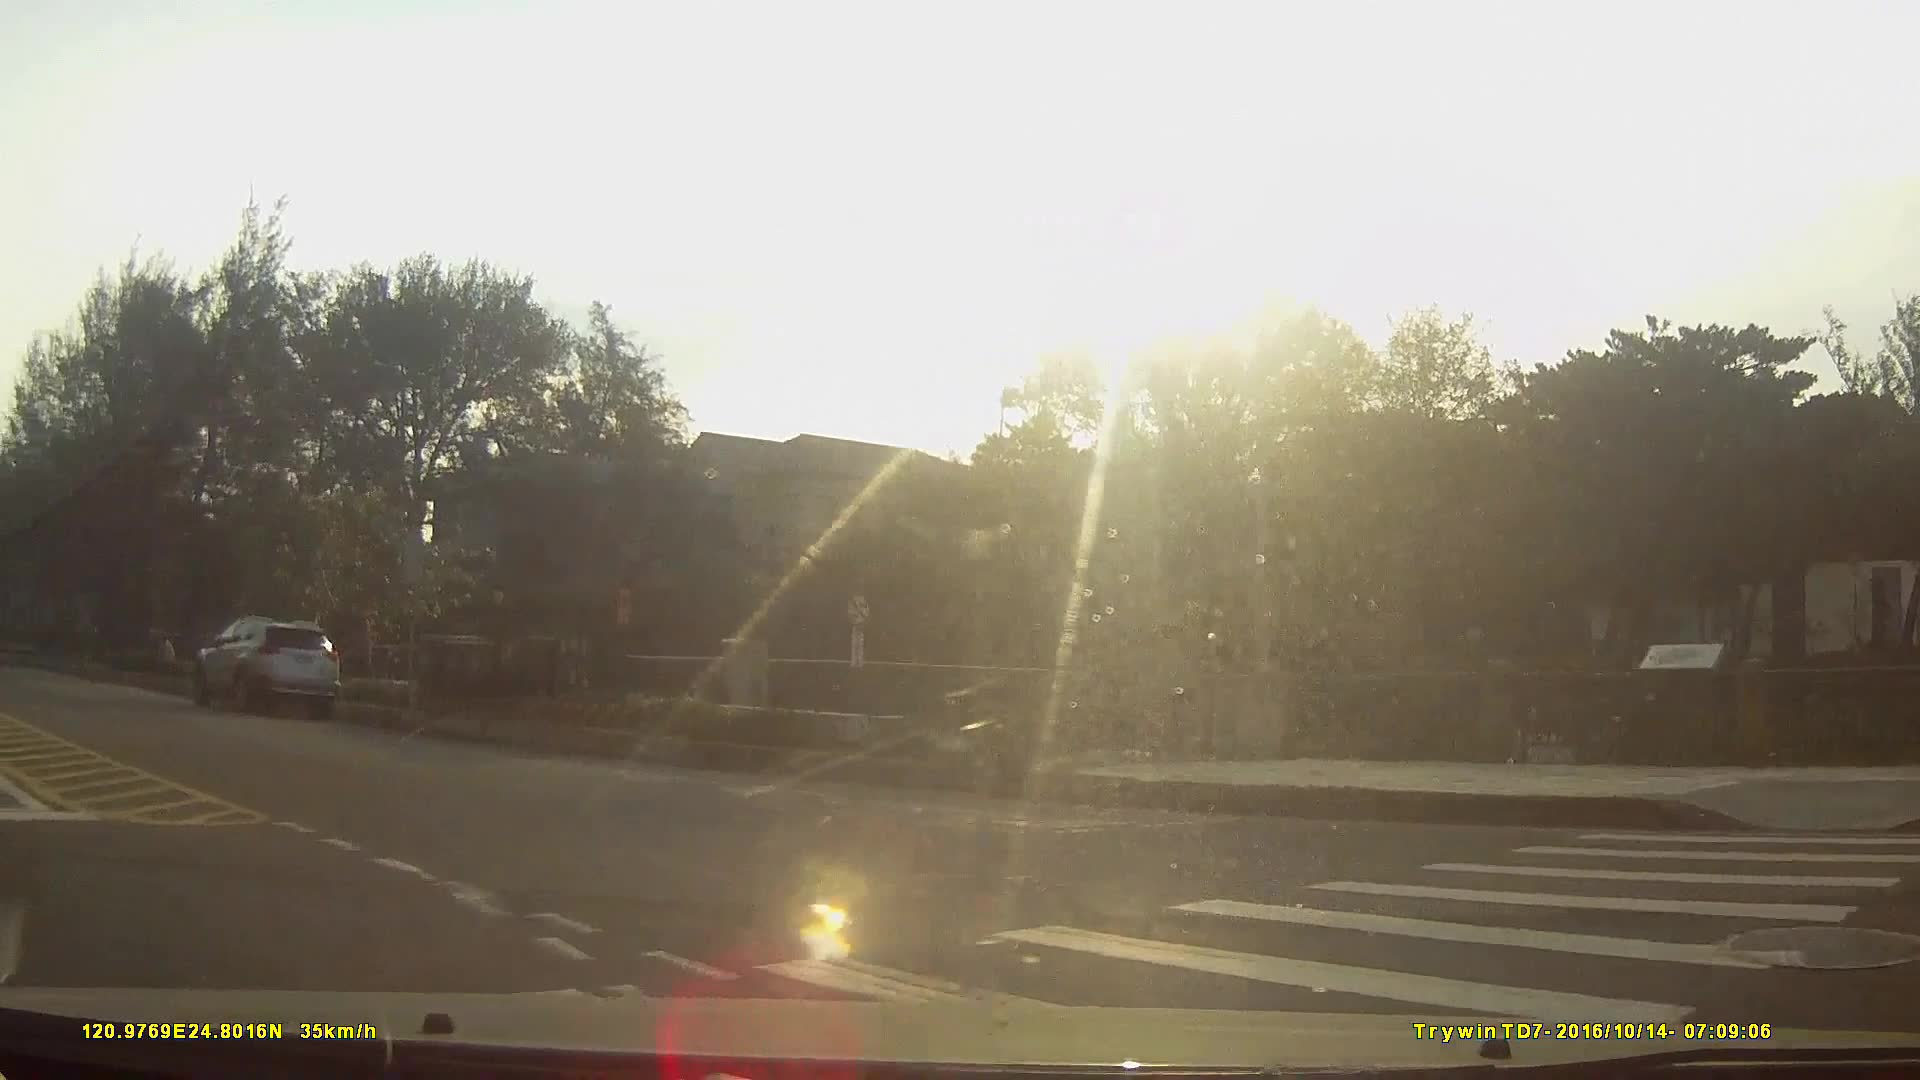vehicle: (191, 615, 338, 721)
